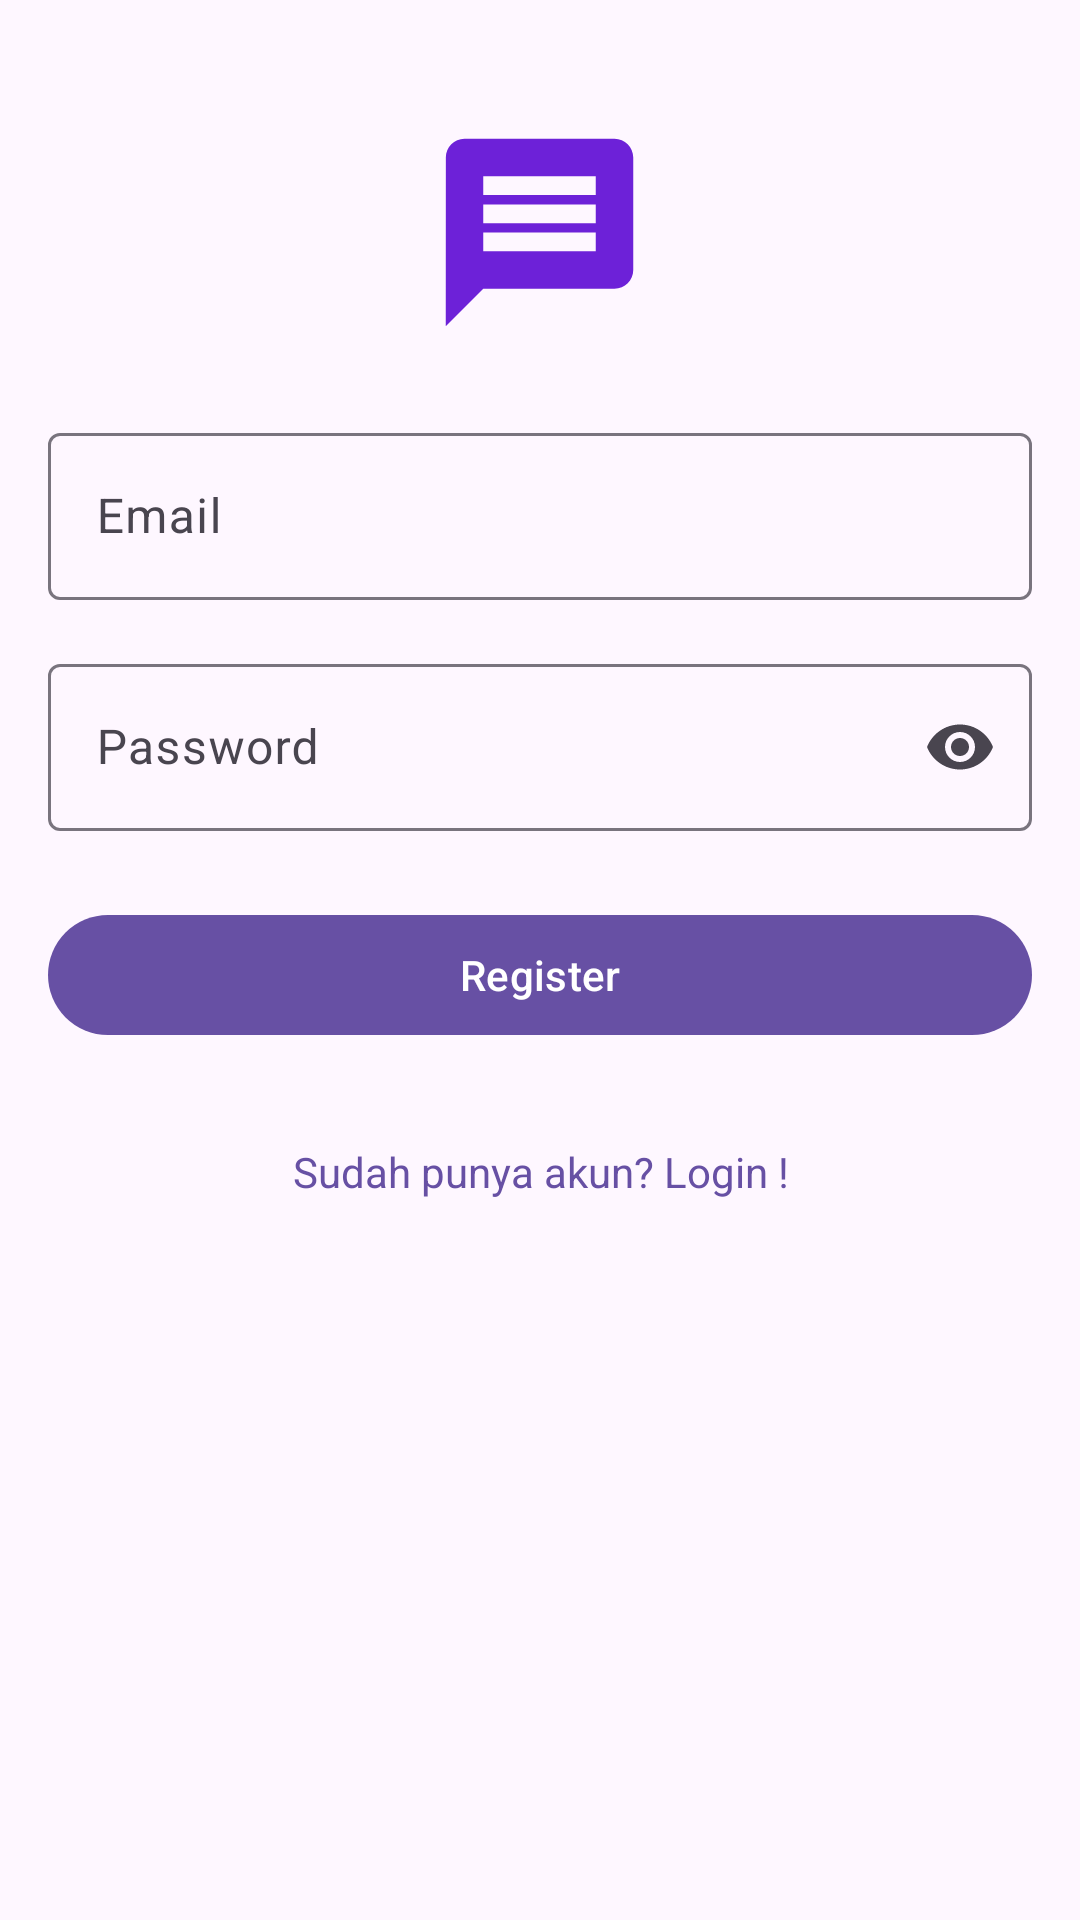

Icons on this 1080px x 1920px Android screen, each with its box as (x1, y1, x2, y2):
message: (445, 138, 634, 326)
